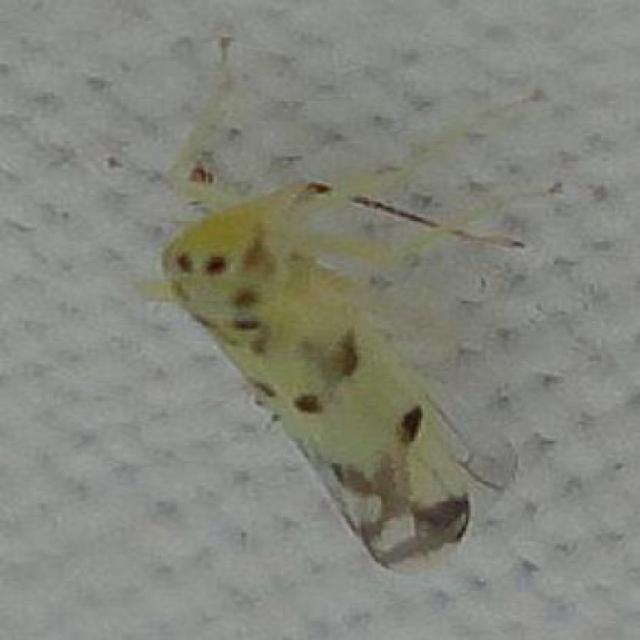green-leafhopper: (146, 172, 522, 568)
